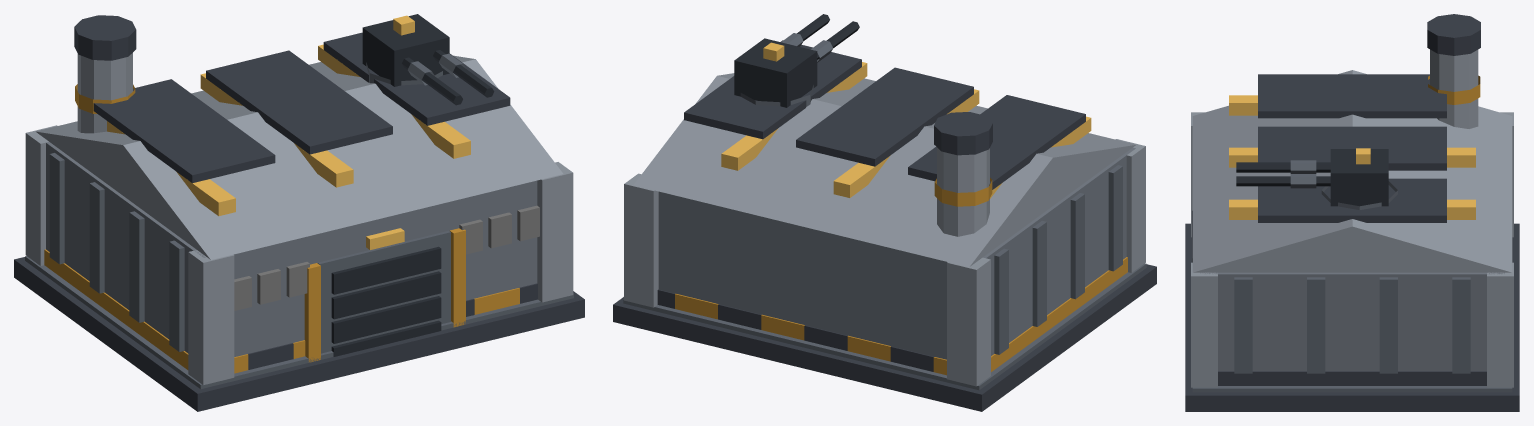
Rendered from barracks-hollow.obj.
The picture shows the model from 3 angles, left to right: view 1: azimuth 30°, elevation 25°; view 2: azimuth 150°, elevation 25°; view 3: azimuth 270°, elevation 25°; orthographic projection. The views are drawn at different scales.
Visible parts, largest first — view 1: barracks-hollow; view 2: barracks-hollow; view 3: barracks-hollow.
Part boxes in pixels (<box>): barracks-hollow: <box>14,14,584,411</box>; barracks-hollow: <box>613,14,1156,411</box>; barracks-hollow: <box>1185,14,1519,411</box>.
Size of the model in its own units: 11.2 by 7.25 by 9.2.
